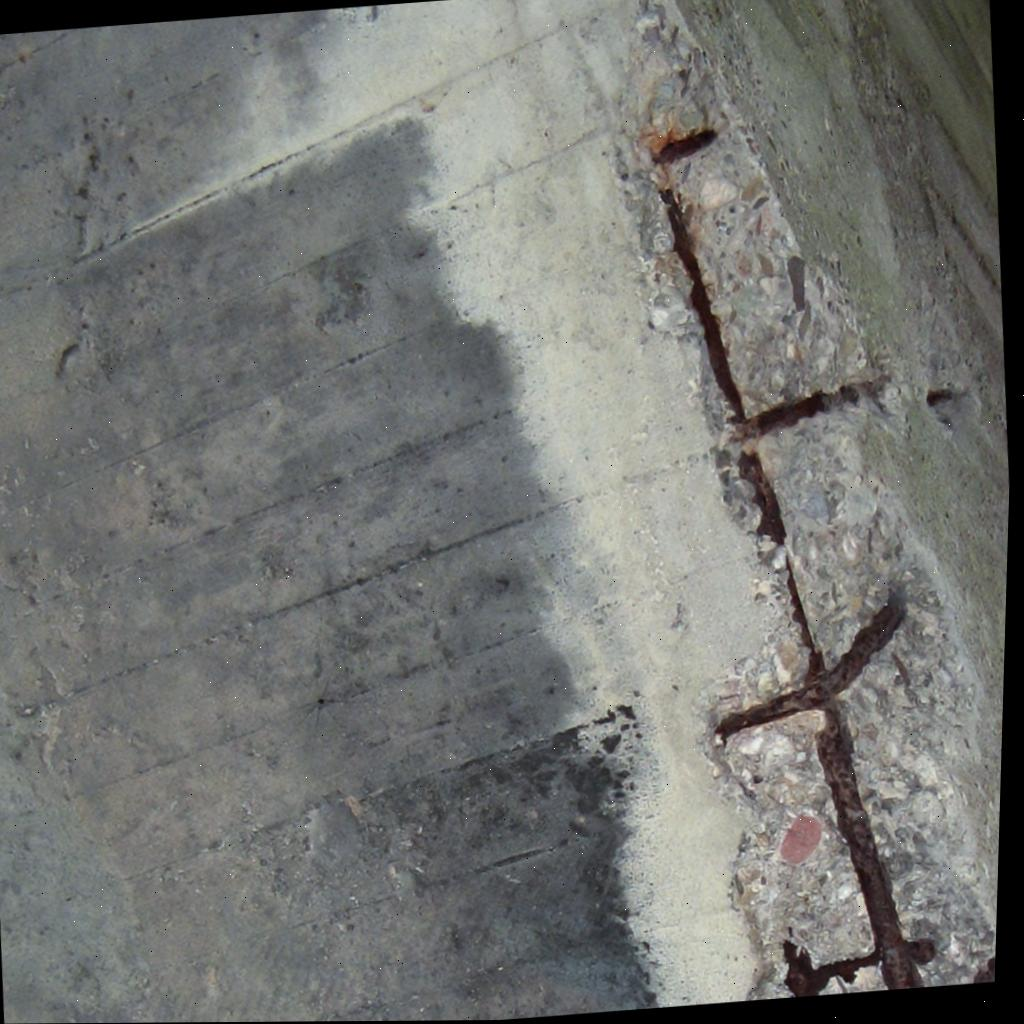exposed_rebar: (716, 566, 934, 996), (661, 191, 830, 441), (737, 450, 787, 544), (653, 130, 716, 163), (973, 956, 995, 983), (929, 392, 952, 406)
spalling: (625, 0, 996, 999)
